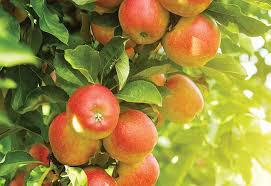apple: (47, 112, 99, 170), (170, 17, 226, 68), (63, 87, 117, 138), (108, 111, 160, 162), (158, 75, 205, 123), (116, 3, 166, 43), (107, 152, 162, 185)
